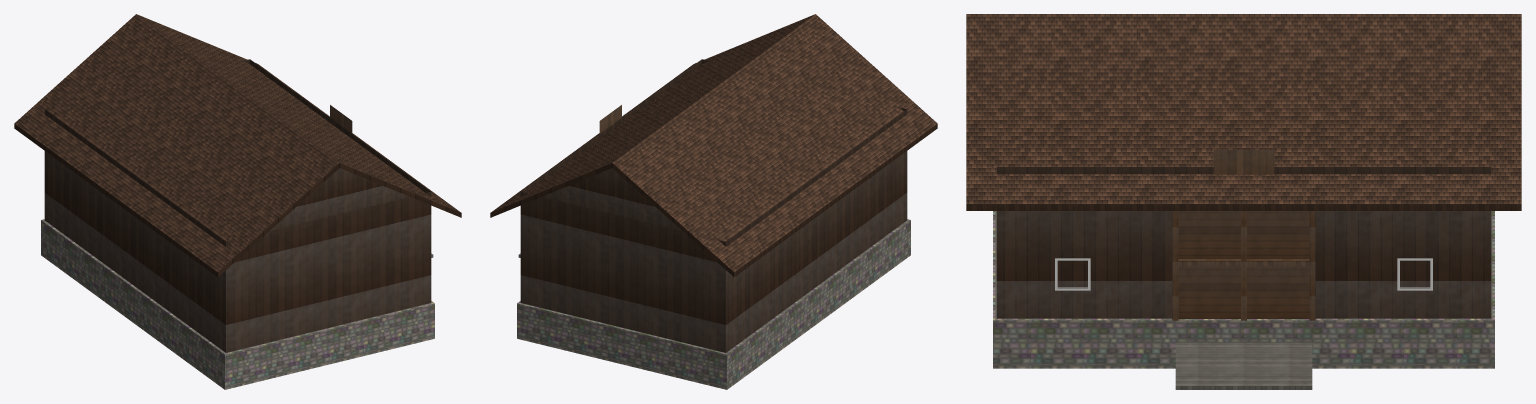
The model's file is barn0.fbx.
The picture shows the model from 3 angles, left to right: view 1: azimuth 30°, elevation 25°; view 2: azimuth 150°, elevation 25°; view 3: azimuth 270°, elevation 25°; orthographic projection. The views are drawn at different scales.
Visible parts, largest first — view 1: barn0; view 2: barn0; view 3: barn0.
Boxes of the visible parts, x1,y1,x2,y2 form: barn0: (14,14,461,389); barn0: (490,14,937,389); barn0: (966,14,1521,389).
Size of the model in its own units: 12.1 by 8.26 by 14.6.
8 materials, 7 textured.
